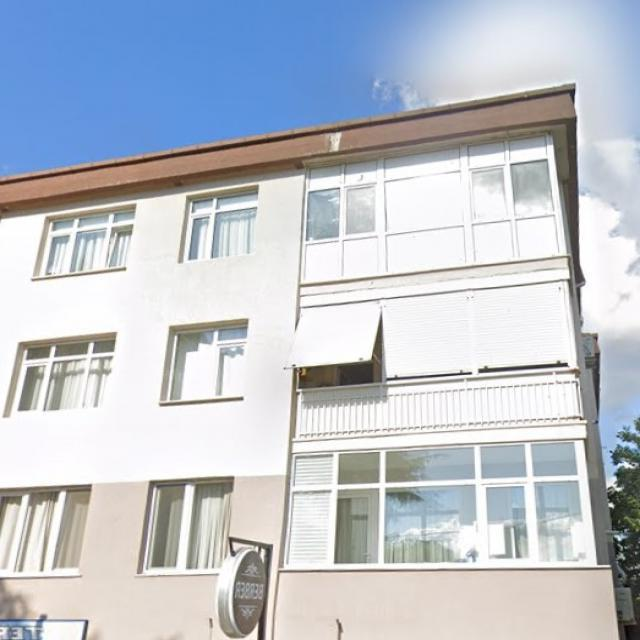Building: (0, 83, 623, 640)
